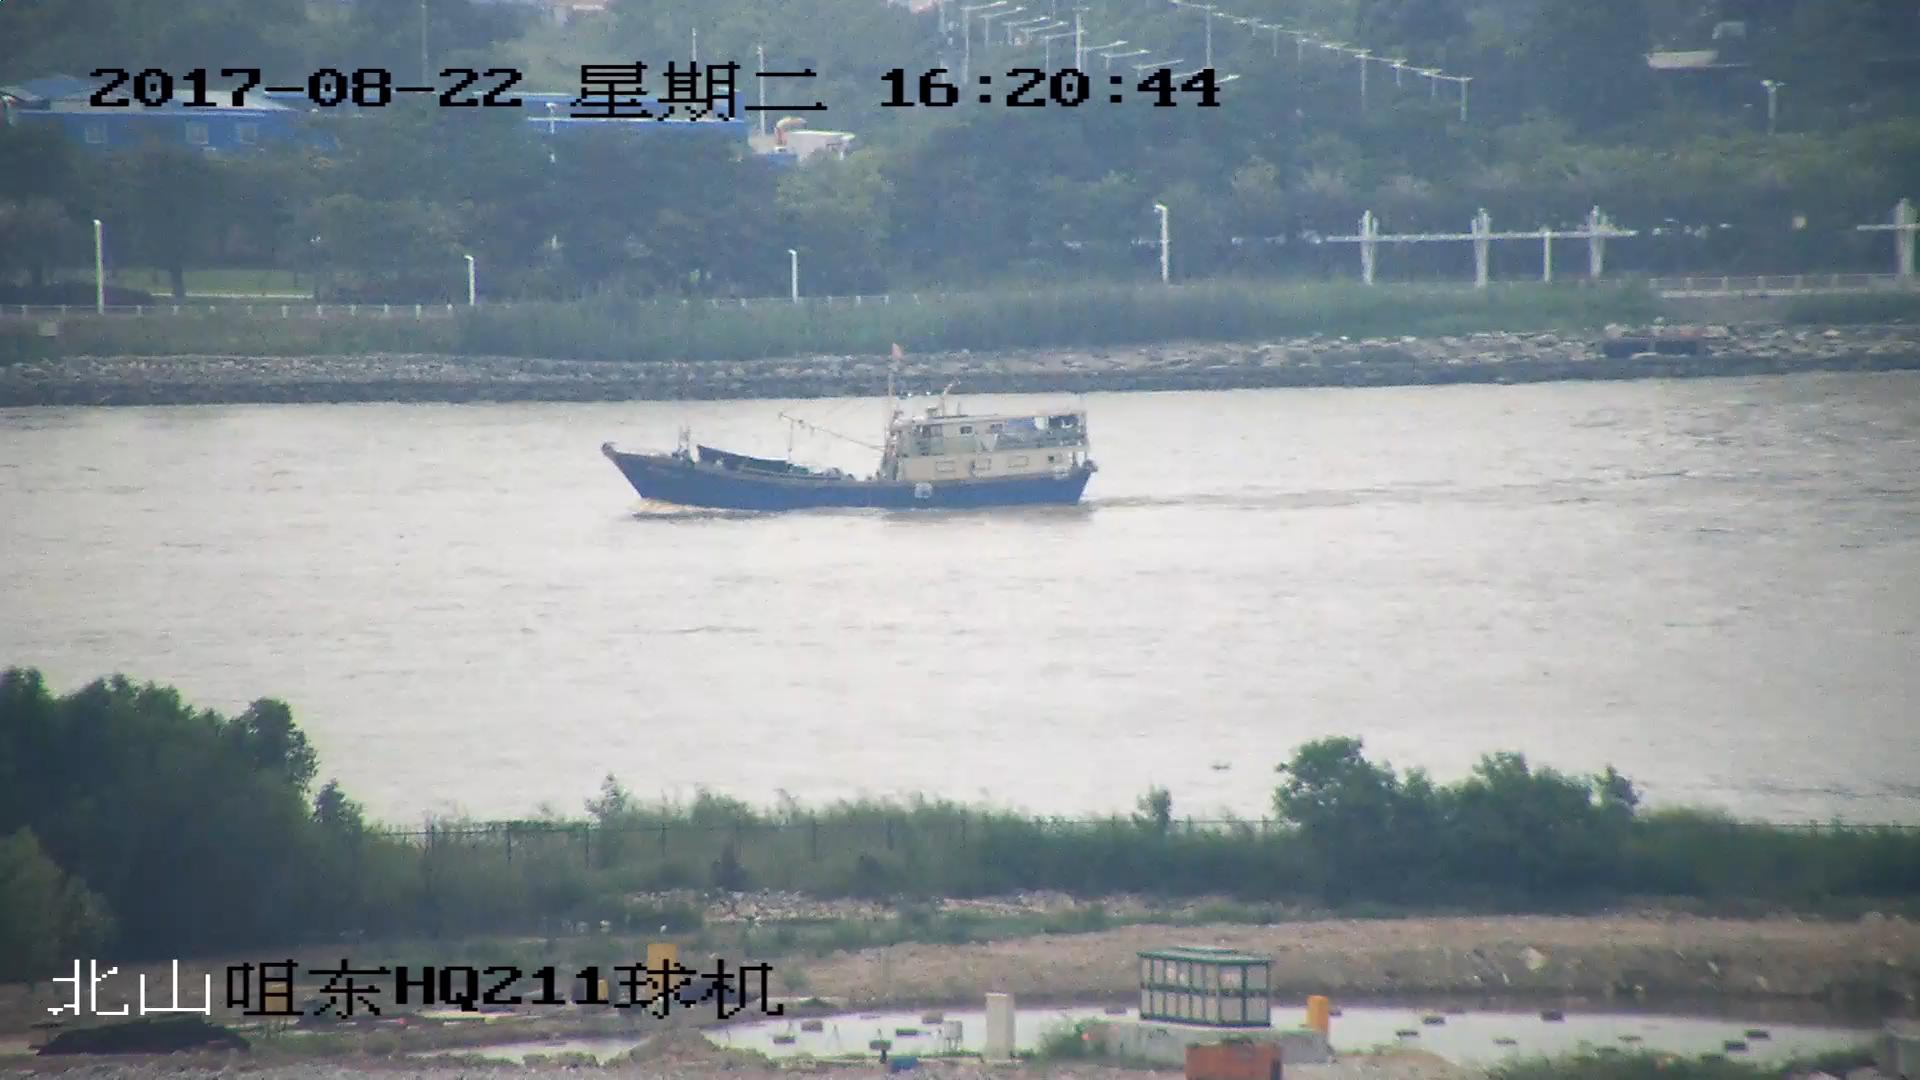fishing boat: (604, 336, 1090, 515)
